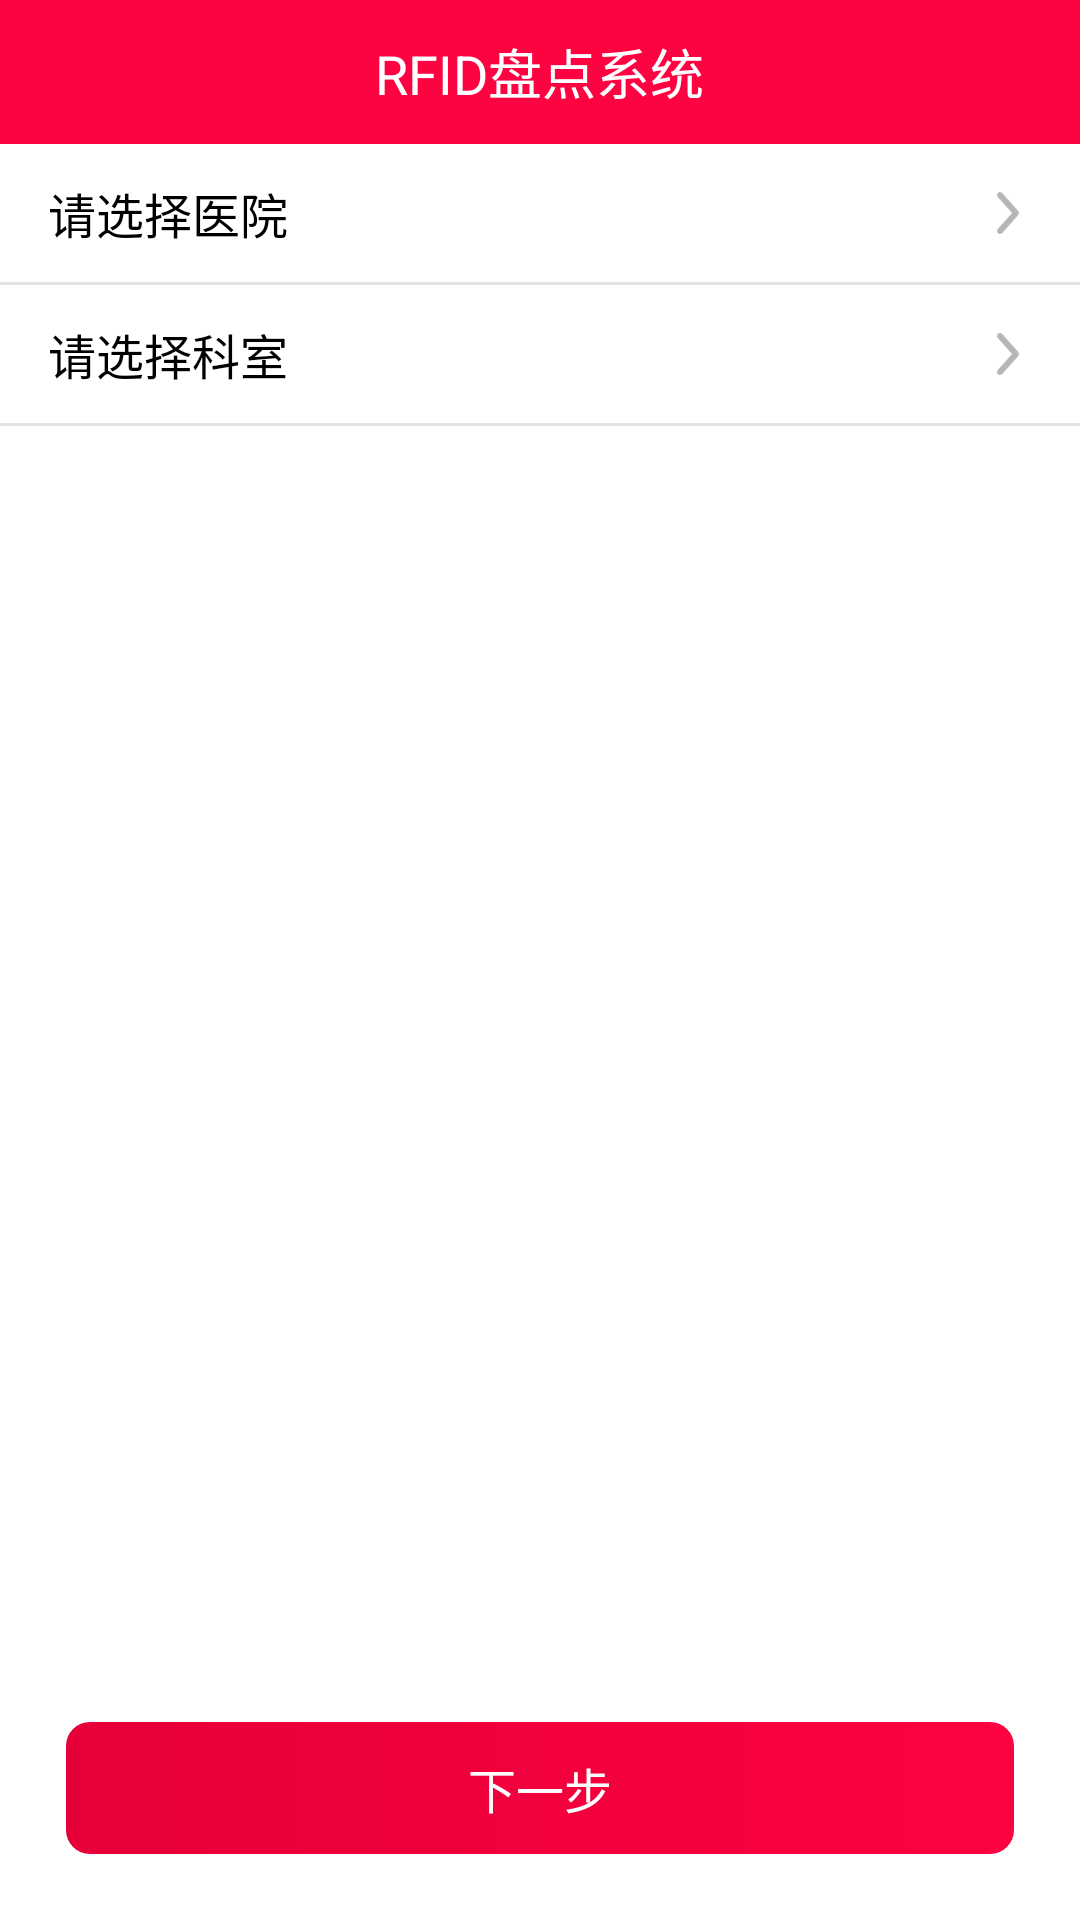

Where icons sit on this 1080px x 1920px app screen, as {"x1": x1, "y1": y1, "x2": x2, "y2": y2}:
list sel: {"x1": 997, "y1": 192, "x2": 1019, "y2": 234}, {"x1": 997, "y1": 333, "x2": 1019, "y2": 375}
